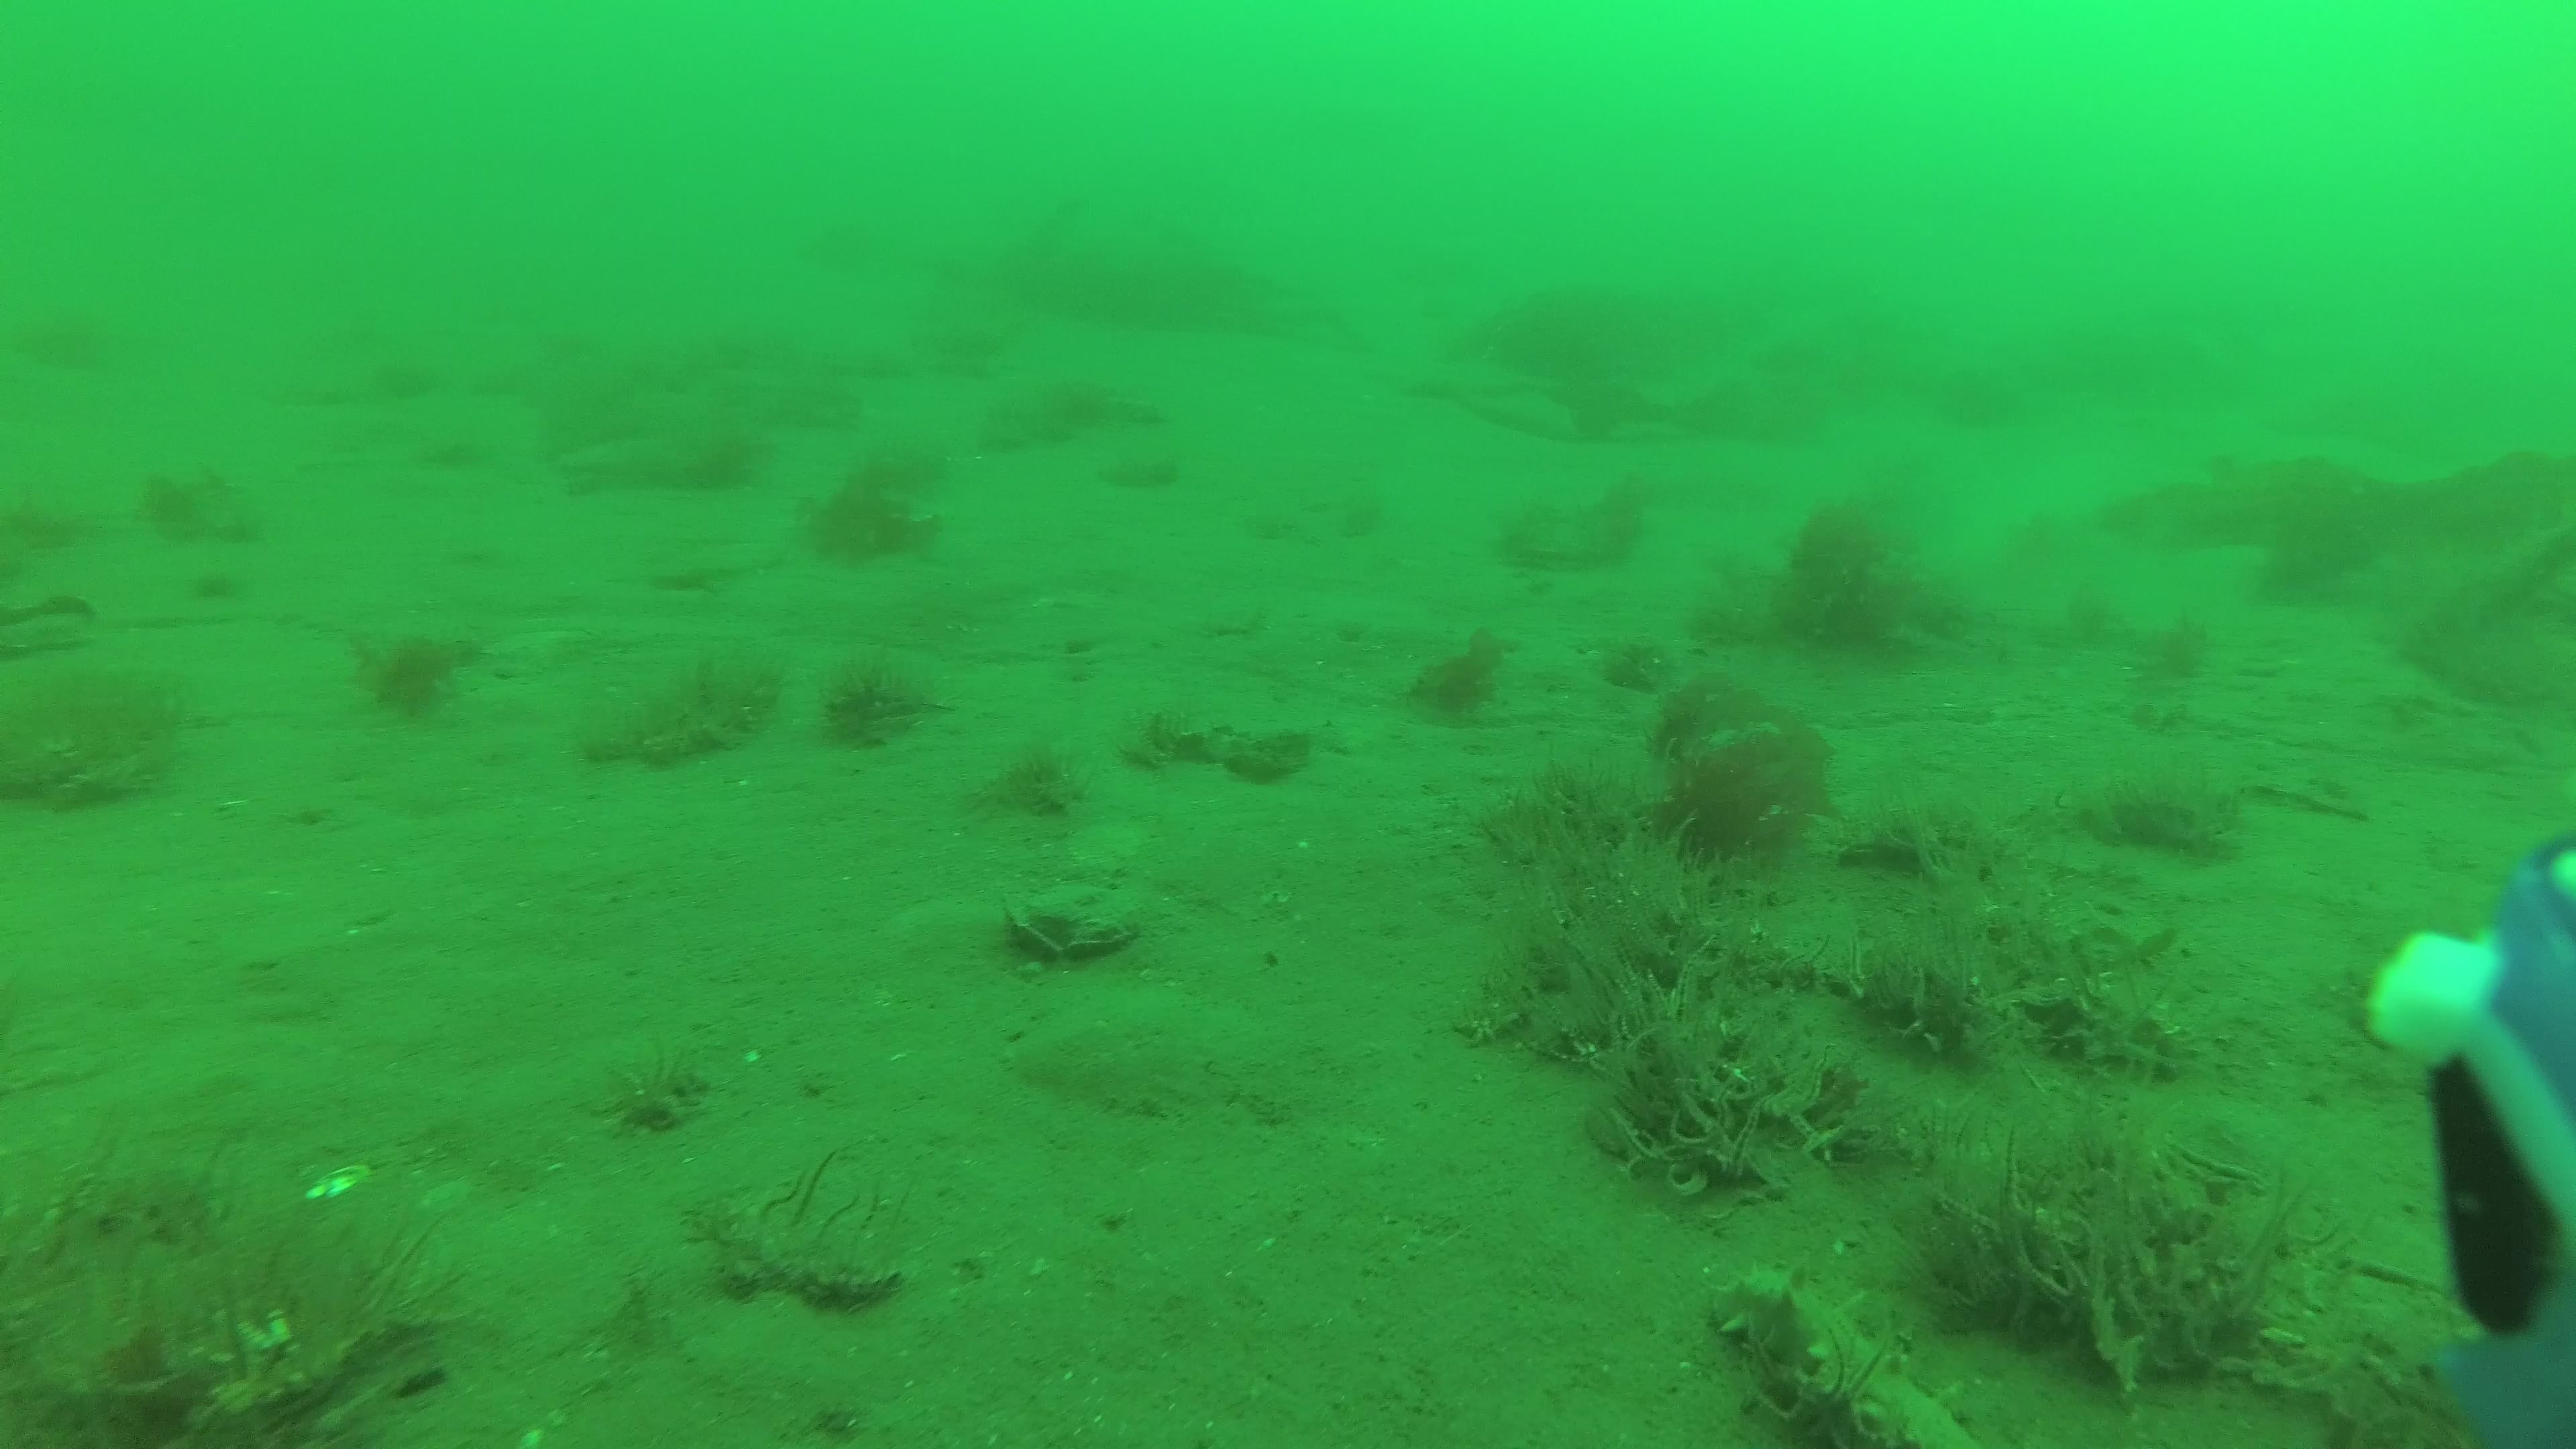holothurian: (1711, 1263, 1989, 1449)
